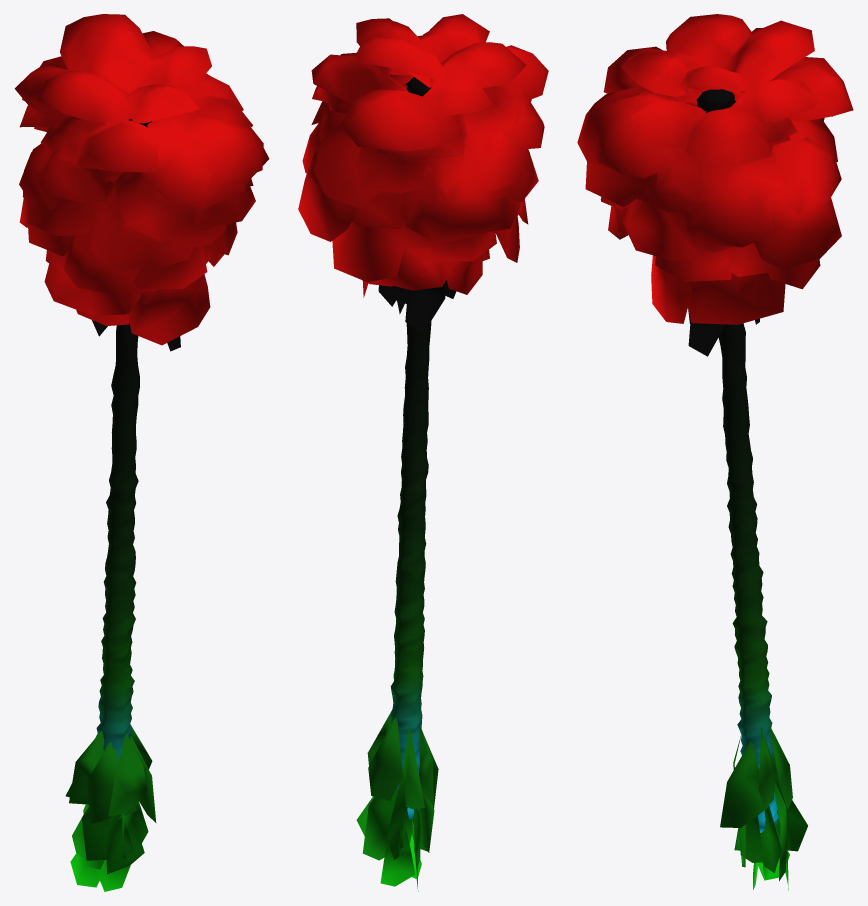
File: Palm1.fbx
3 renders of one model, left to right at view 1: azimuth 30°, elevation 25°; view 2: azimuth 150°, elevation 25°; view 3: azimuth 270°, elevation 25°, orthographic.
Visible parts, largest first — view 1: Palm1_LOD0; view 2: Palm1_LOD0; view 3: Palm1_LOD0.
Part boxes in pixels (x1,y1,x2,y2): Palm1_LOD0: (14, 14, 269, 891); Palm1_LOD0: (298, 14, 548, 891); Palm1_LOD0: (577, 14, 853, 890).
Size of what is drawn, in the model's own units: 473 by 1788 by 520.
